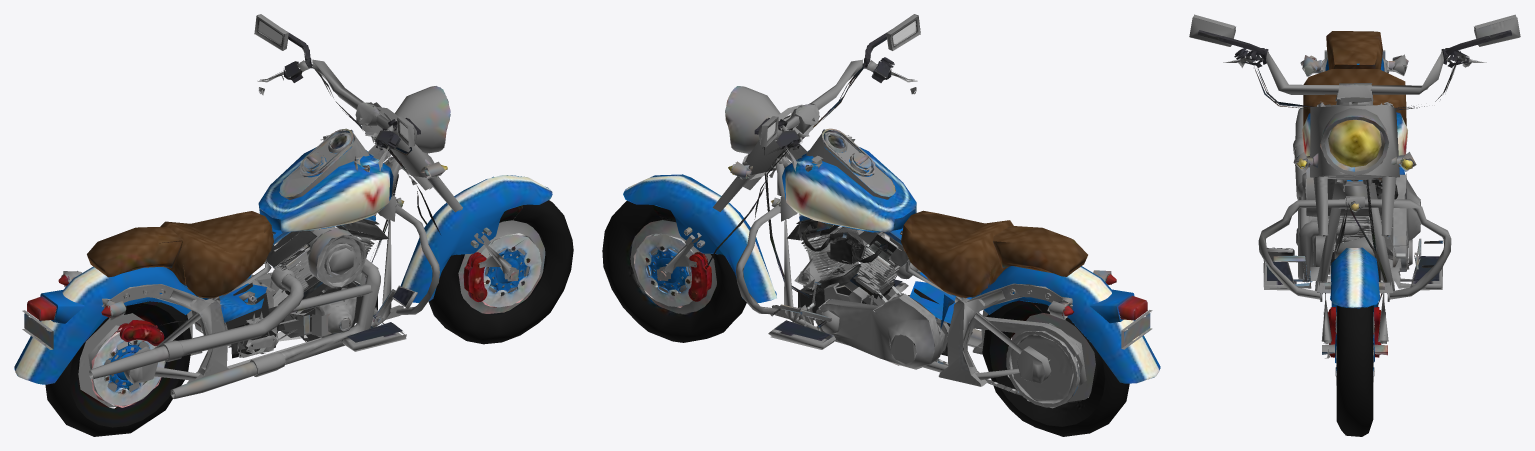
Rendered from veh-cruiser.glb.
3 views of the same model, side by side, from view 1: azimuth 30°, elevation 25°; view 2: azimuth 150°, elevation 25°; view 3: azimuth 270°, elevation 25° (orthographic). The views are drawn at different scales.
Parts seen in each view (by area): view 1: polySurface7_UV_Tyres1_0, polySurface34_UV_Tyres1_0, polySurface8_UV_Body1_0, pCube1_UV_Body1_0, pCube2_UV_Body1_0, polySurface6_UV_Body1_0, pCylinder53_UV_Engine1_0, polySurface17_UV_Engine1_0, pCube8_UV_Body1_0, polySurface53_UV_Tyres1_0, pPlane1_UV_Frame1_0, polySurface16_UV_Engine1_0 (+24 smaller); view 2: polySurface7_UV_Tyres1_0, polySurface34_UV_Tyres1_0, polySurface8_UV_Body1_0, pCube2_UV_Body1_0, pCube1_UV_Body1_0, polySurface26_UV_Engine1_0, polySurface6_UV_Body1_0, polySurface16_UV_Engine1_0, pPlane1_UV_Frame1_0, pCube8_UV_Body1_0, polySurface29_UV_Engine1_0, polySurface53_UV_Tyres1_0 (+19 smaller); view 3: polySurface20_UV_Frame1_0, polySurface7_UV_Tyres1_0, pCylinder5_UV_Body1_0, pDisc5_UV_Frame1_0, polySurface8_UV_Body1_0, polySurface46_UV_Frame1_0, pCube28_UV_Frame1_0, pCylinder12_UV_Frame1_0, pCube1_UV_Body1_0, pCube8_UV_Body1_0, polySurface26_UV_Engine1_0, polySurface23_UV_Frame1_0 (+14 smaller).
Part boxes in pixels (<box>): polySurface7_UV_Tyres1_0: <box>428,200,573,344</box>; polySurface34_UV_Tyres1_0: <box>45,301,191,436</box>; polySurface8_UV_Body1_0: <box>400,175,552,302</box>; pCube1_UV_Body1_0: <box>160,211,273,298</box>; pCube2_UV_Body1_0: <box>258,146,393,232</box>; polySurface6_UV_Body1_0: <box>14,266,195,384</box>; pCylinder53_UV_Engine1_0: <box>89,266,303,379</box>; polySurface17_UV_Engine1_0: <box>170,258,380,398</box>; pCube8_UV_Body1_0: <box>87,227,183,277</box>; polySurface53_UV_Tyres1_0: <box>481,233,541,307</box>; pPlane1_UV_Frame1_0: <box>102,284,228,382</box>; polySurface16_UV_Engine1_0: <box>266,215,388,299</box>; polySurface7_UV_Tyres1_0: <box>602,200,746,342</box>; polySurface34_UV_Tyres1_0: <box>982,300,1129,436</box>; polySurface8_UV_Body1_0: <box>623,174,776,302</box>; pCube2_UV_Body1_0: <box>782,147,916,232</box>; pCube1_UV_Body1_0: <box>901,210,1013,298</box>; polySurface26_UV_Engine1_0: <box>815,293,949,369</box>; polySurface6_UV_Body1_0: <box>980,266,1160,383</box>; polySurface16_UV_Engine1_0: <box>787,215,907,299</box>; pPlane1_UV_Frame1_0: <box>938,283,1072,386</box>; pCube8_UV_Body1_0: <box>993,225,1087,276</box>; polySurface29_UV_Engine1_0: <box>1006,331,1079,408</box>; polySurface53_UV_Tyres1_0: <box>633,233,694,307</box>; polySurface20_UV_Frame1_0: <box>1310,101,1399,343</box>; polySurface7_UV_Tyres1_0: <box>1322,305,1387,436</box>; pCylinder5_UV_Body1_0: <box>1320,108,1388,175</box>; pDisc5_UV_Frame1_0: <box>1258,196,1451,301</box>; polySurface8_UV_Body1_0: <box>1324,247,1385,314</box>; polySurface46_UV_Frame1_0: <box>1223,48,1486,94</box>; pCube28_UV_Frame1_0: <box>1189,14,1520,54</box>; pCylinder12_UV_Frame1_0: <box>1315,179,1394,294</box>; pCube1_UV_Body1_0: <box>1303,69,1406,126</box>; pCube8_UV_Body1_0: <box>1326,31,1382,69</box>; polySurface26_UV_Engine1_0: <box>1380,173,1420,271</box>; polySurface23_UV_Frame1_0: <box>1263,256,1442,290</box>.
Size of the model in its own units: 0.184 by 0.0989 by 0.0902.
4 materials, 4 textured.
